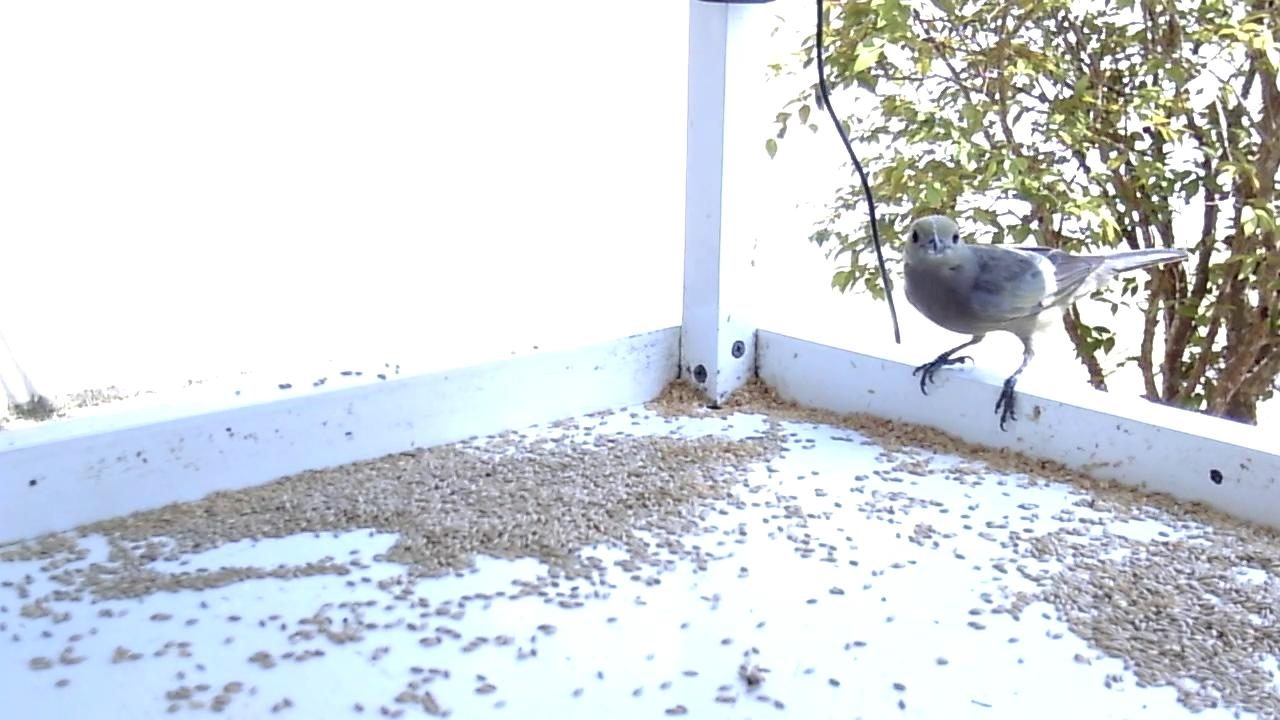sanhaco_do_coqueiro: (900, 212, 1193, 438)
